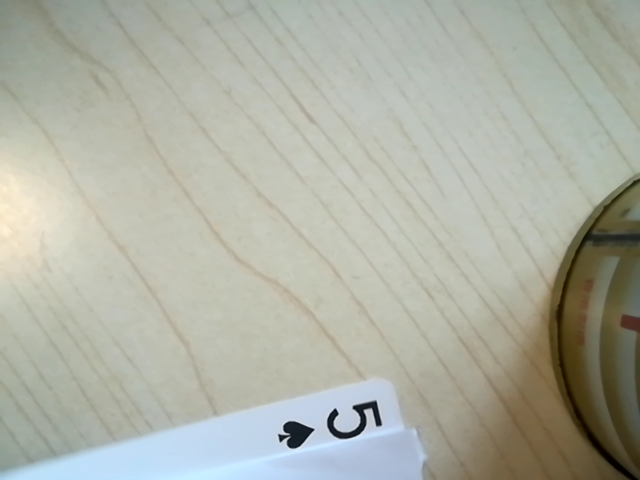ht 5: (263, 392, 400, 458)
